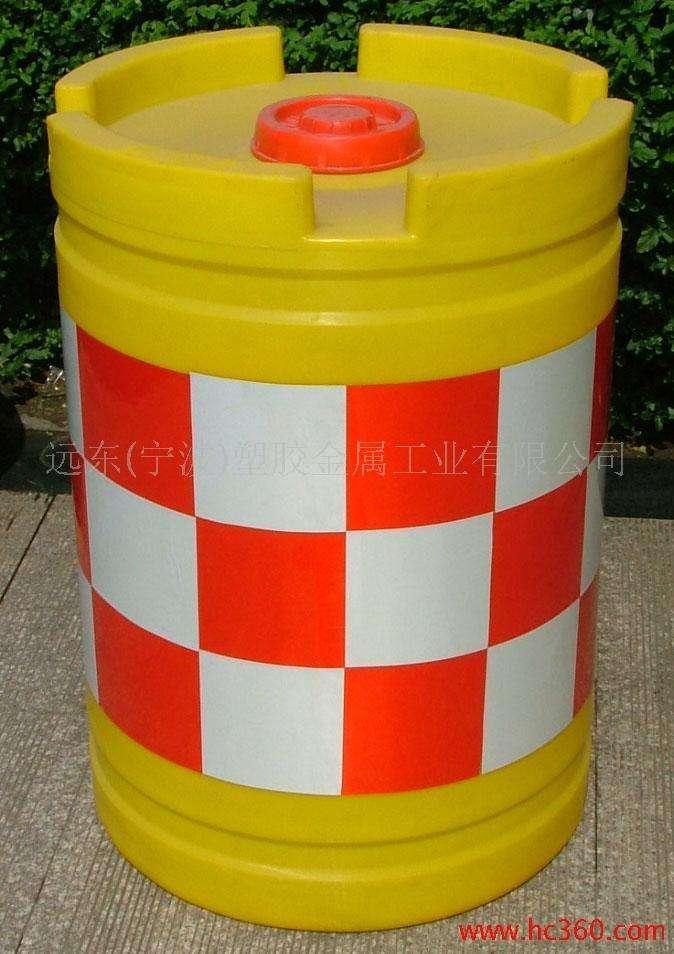sign: (28, 25, 629, 943)
